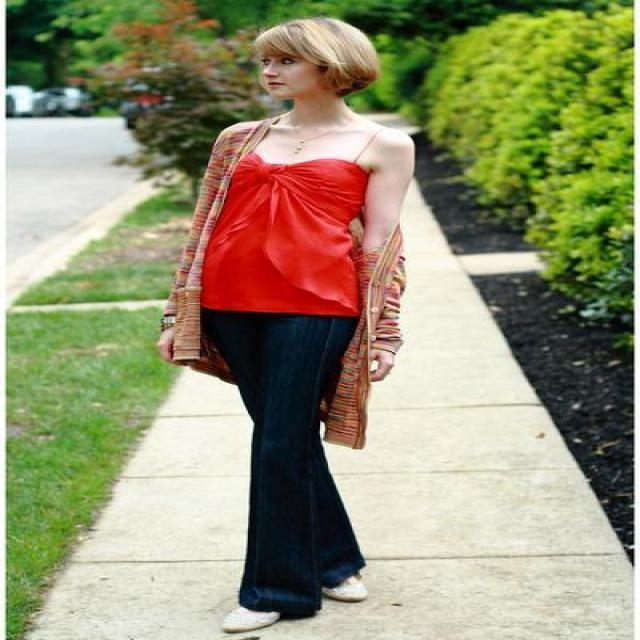jacket: (155, 120, 424, 447)
pants: (200, 307, 363, 620)
shirt: (197, 150, 382, 315)
shoe: (200, 568, 387, 639)
